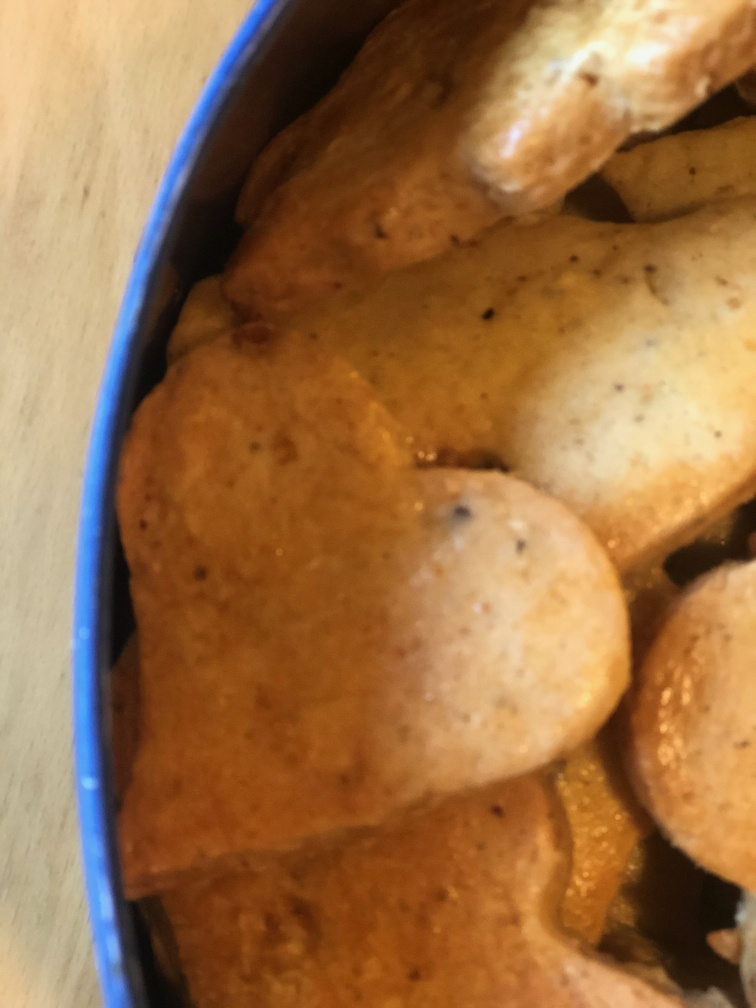heart: (103, 331, 628, 898)
